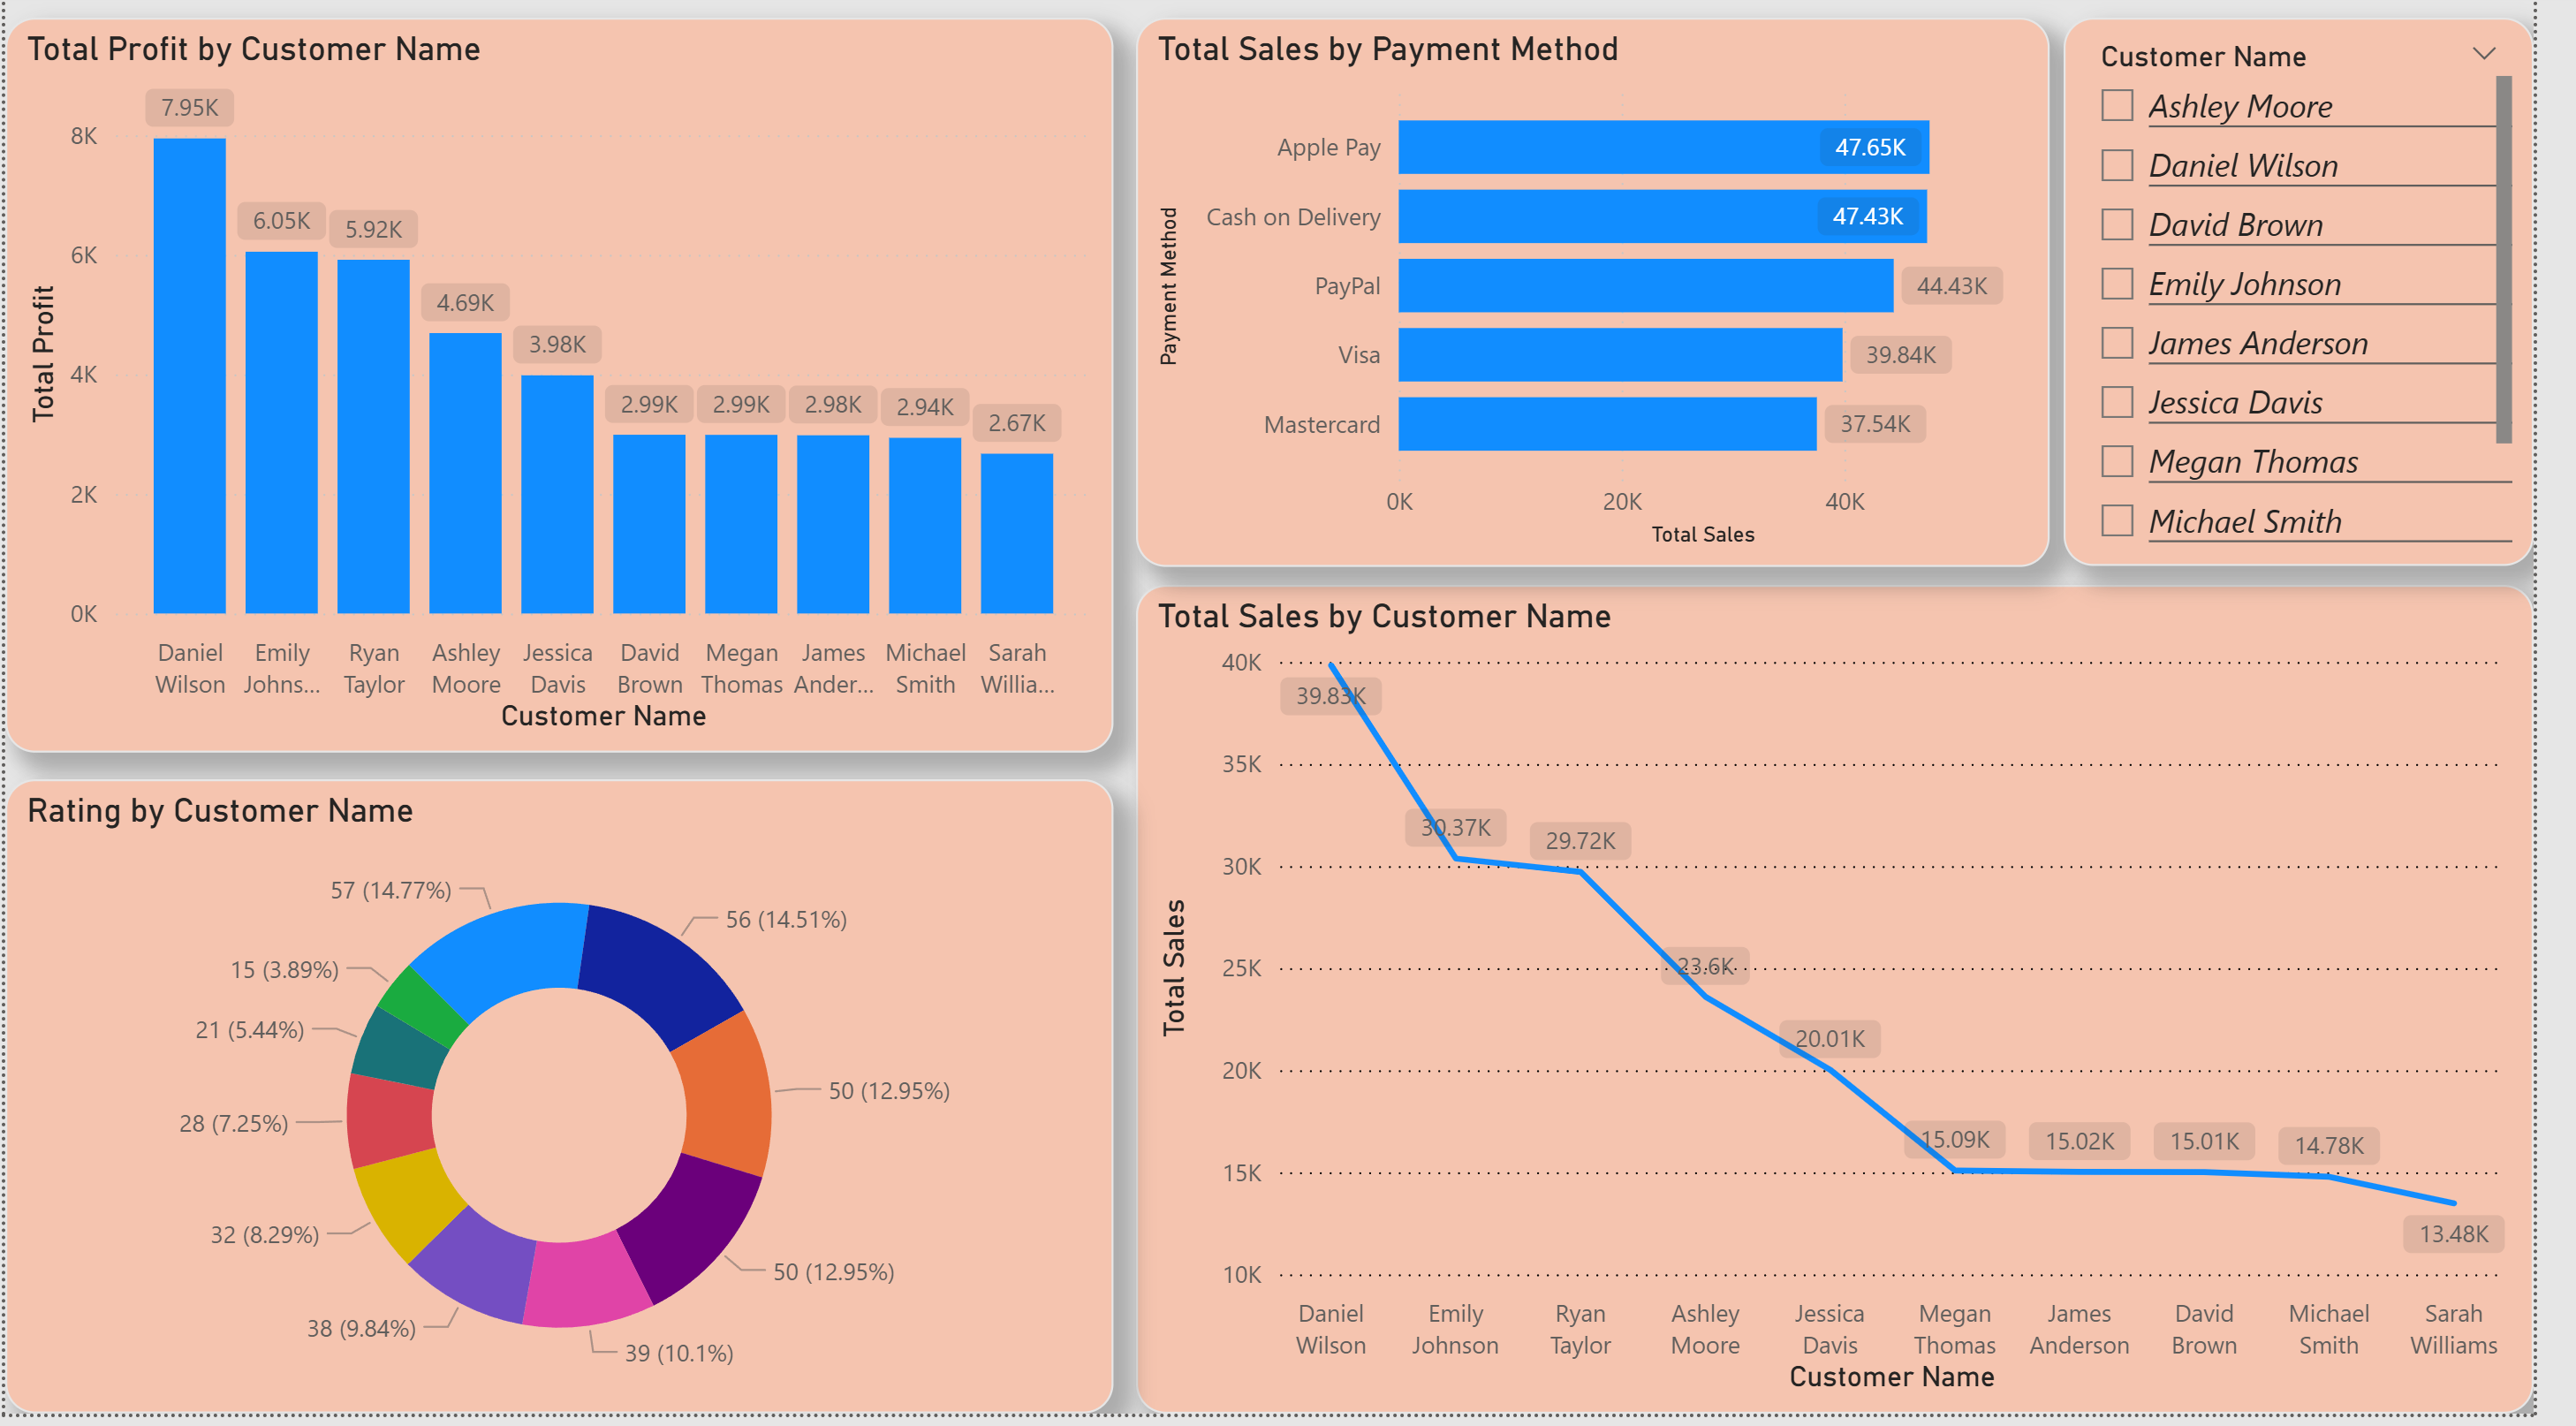

The page's visual inventory and layout, read from the dashboard file:
{"tool":"powerbi","page":{"name":"Customer Insights","canvas":[1280,720],"ordinal":2},"visuals":[{"type":"columnChart","fields":{"Category":["E-Commerce Orders Dataset  —  2024 (Orders).Customer Name"],"Y":["Sum(E-Commerce Orders Dataset  —  2024 (Orders).Profit ($))"]},"box":[0,13.4,560.8,372.1],"z":0},{"type":"lineChart","fields":{"Category":["E-Commerce Orders Dataset  —  2024 (Orders).Customer Name"],"Y":["Sum(E-Commerce Orders Dataset  —  2024 (Orders).Total ($))"]},"box":[572.4,300.5,707.5,419.5],"z":1000},{"type":"barChart","fields":{"Category":["E-Commerce Orders Dataset  —  2024 (Orders).Payment Method"],"Y":["Sum(E-Commerce Orders Dataset  —  2024 (Orders).Total ($))"]},"box":[572.4,13.4,462.4,278.2],"z":2000},{"type":"donutChart","fields":{"Y":["Sum(E-Commerce Orders Dataset  —  2024 (Orders).Rating (1-5))"],"Category":["E-Commerce Orders Dataset  —  2024 (Orders).Customer Name"]},"box":[0,398.9,560.8,321.1],"z":3000},{"type":"slicer","fields":{"Values":["E-Commerce Orders Dataset  —  2024 (Orders).Customer Name"]},"box":[1042,13.4,237.9,277.3],"z":4000}]}

Visuals, with their boxes in screenshot pixels (x1, y1, x2, y2), scaled from the page's 1280x720 canvas onto the 2576x1426 screenshot:
columnChart - E-Commerce Orders Dataset  —  2024 (Orders).Customer Name x Sum(E-Commerce Orders Dataset  —  2024 (Orders).Profit ($)): locate(0, 27, 1129, 763)
lineChart - E-Commerce Orders Dataset  —  2024 (Orders).Customer Name x Sum(E-Commerce Orders Dataset  —  2024 (Orders).Total ($)): locate(1152, 595, 2575, 1425)
barChart - E-Commerce Orders Dataset  —  2024 (Orders).Payment Method x Sum(E-Commerce Orders Dataset  —  2024 (Orders).Total ($)): locate(1152, 27, 2082, 578)
donutChart - Sum(E-Commerce Orders Dataset  —  2024 (Orders).Rating (1-5)) x E-Commerce Orders Dataset  —  2024 (Orders).Customer Name: locate(0, 790, 1129, 1425)
slicer - E-Commerce Orders Dataset  —  2024 (Orders).Customer Name: locate(2097, 27, 2575, 576)
